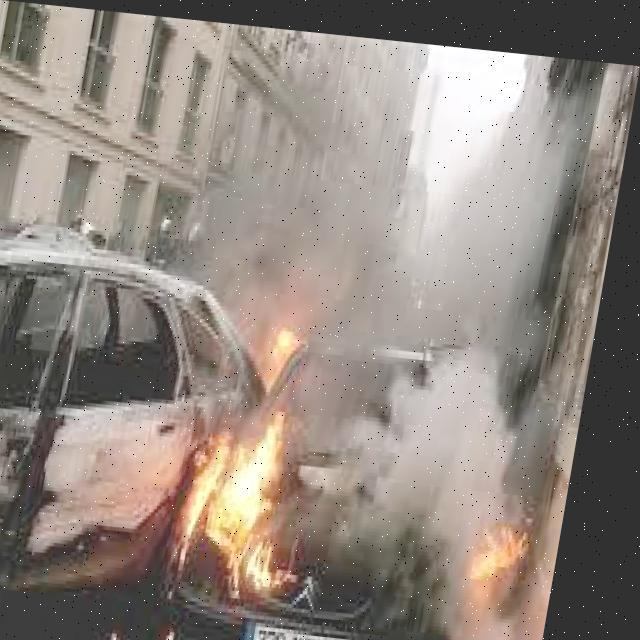Fire: (168, 389, 350, 611), (476, 486, 560, 582), (255, 304, 328, 392)
